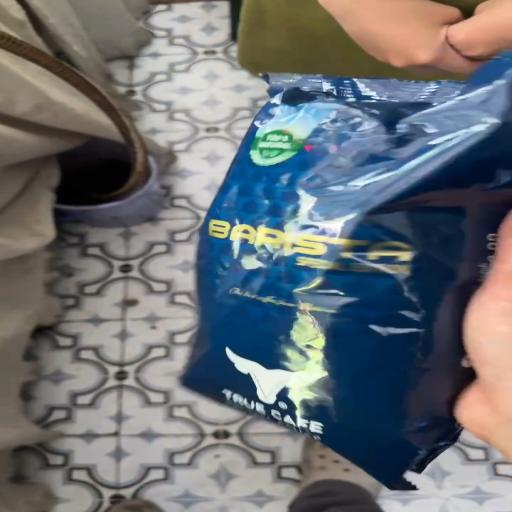cafe_hat: (181, 56, 511, 490)
